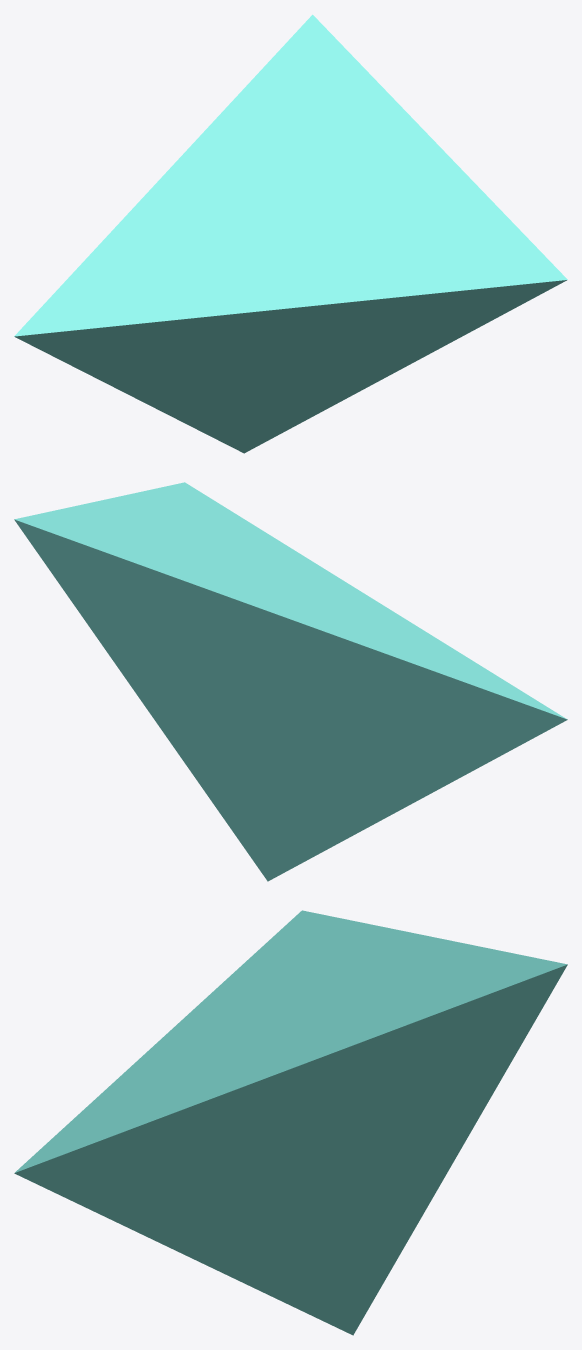
File: Flower_M2_9.fbx
3 renders of one model, top to bottom at view 1: azimuth 30°, elevation 25°; view 2: azimuth 150°, elevation 25°; view 3: azimuth 270°, elevation 25°, orthographic. The views are drawn at different scales.
Visible parts, largest first — view 1: Flower_M2_9; view 2: Flower_M2_9; view 3: Flower_M2_9.
Part boxes in pixels (x1=…): Flower_M2_9: x1=14, y1=14, x2=567, y2=453; Flower_M2_9: x1=14, y1=482, x2=567, y2=881; Flower_M2_9: x1=14, y1=910, x2=567, y2=1335.
Size of the model in its own units: 8.48 by 6.24 by 6.68.
